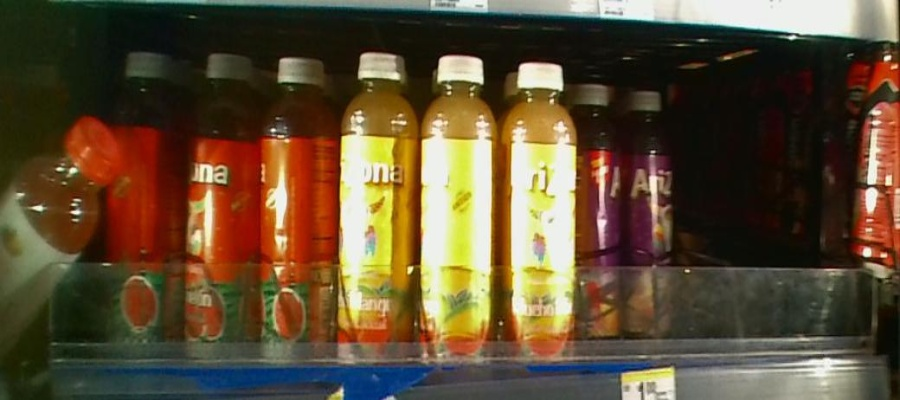bottle: (416, 32, 500, 369), (337, 31, 416, 363), (101, 37, 180, 357), (260, 44, 334, 374), (184, 38, 259, 362), (502, 39, 576, 357), (621, 60, 678, 342), (575, 63, 620, 343)
